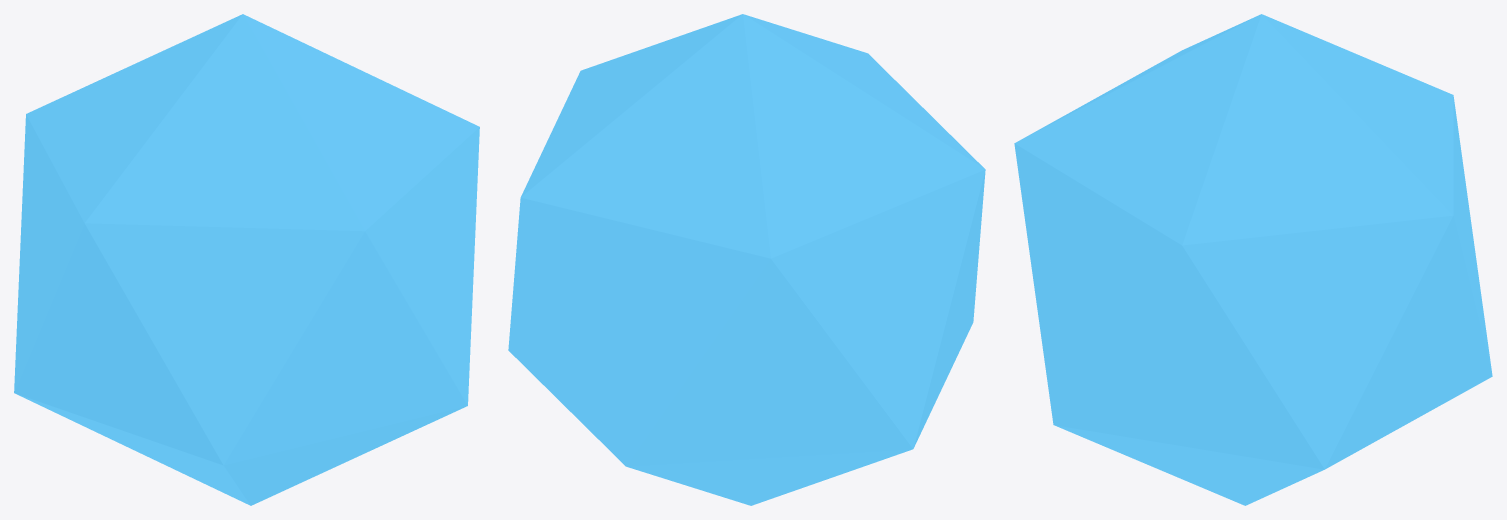
File: diamond2.fbx
The picture shows the model from 3 angles, left to right: view 1: azimuth 30°, elevation 25°; view 2: azimuth 150°, elevation 25°; view 3: azimuth 270°, elevation 25°; orthographic projection. The views are drawn at different scales.
Parts seen in each view (by area): view 1: diamond; view 2: diamond; view 3: diamond.
Part boxes in pixels (x1,y1,x2,y2): diamond: (14,14,479,505); diamond: (508,14,985,505); diamond: (1014,14,1492,505).
Size of the model in its own units: 37.43 by 43.98 by 38.75.
